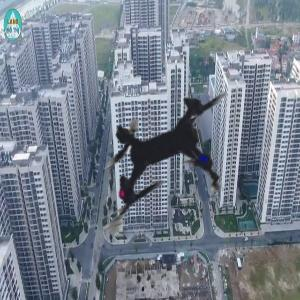drone: (30, 24, 299, 293)
